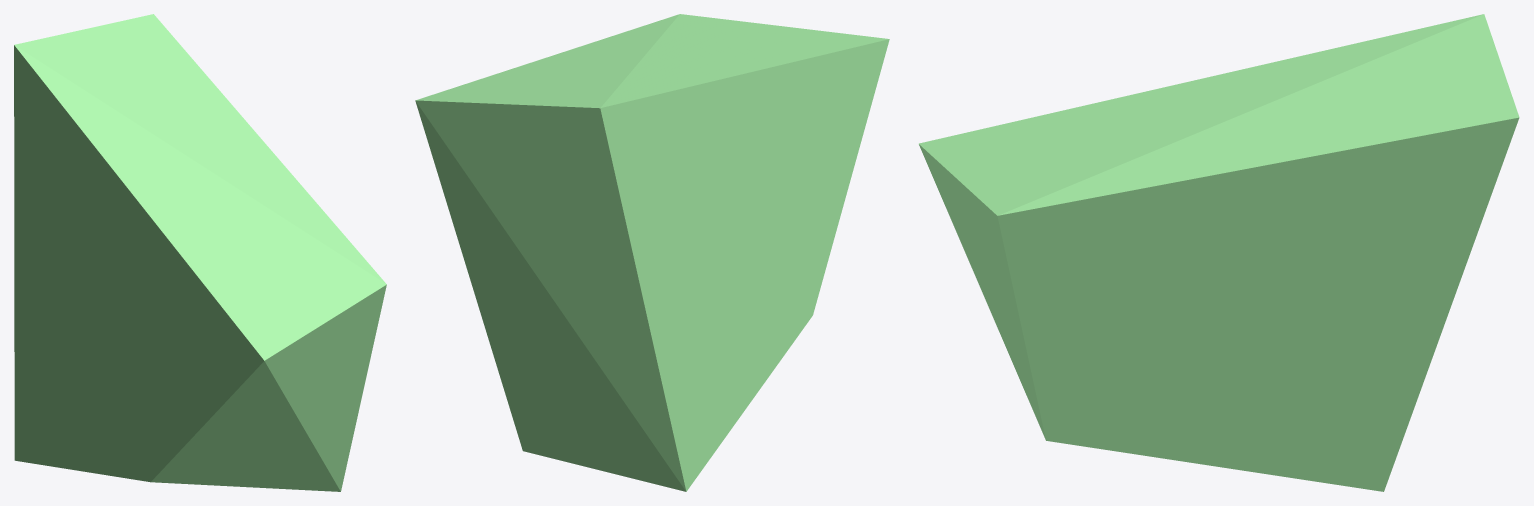
Rendered from UMIRobot_UMIRobot_link_5_convex_coll_40.dae.
The picture shows the model from 3 angles, left to right: view 1: azimuth 30°, elevation 25°; view 2: azimuth 150°, elevation 25°; view 3: azimuth 270°, elevation 25°; orthographic projection. The views are drawn at different scales.
Visible parts, largest first — view 1: node; view 2: node; view 3: node.
Boxes of the visible parts, bbox=[...] form: node: bbox=[14, 14, 386, 491]; node: bbox=[415, 14, 889, 491]; node: bbox=[919, 14, 1519, 491].
Size of the model in its own units: 0.00236 by 0.0044 by 0.00577.
